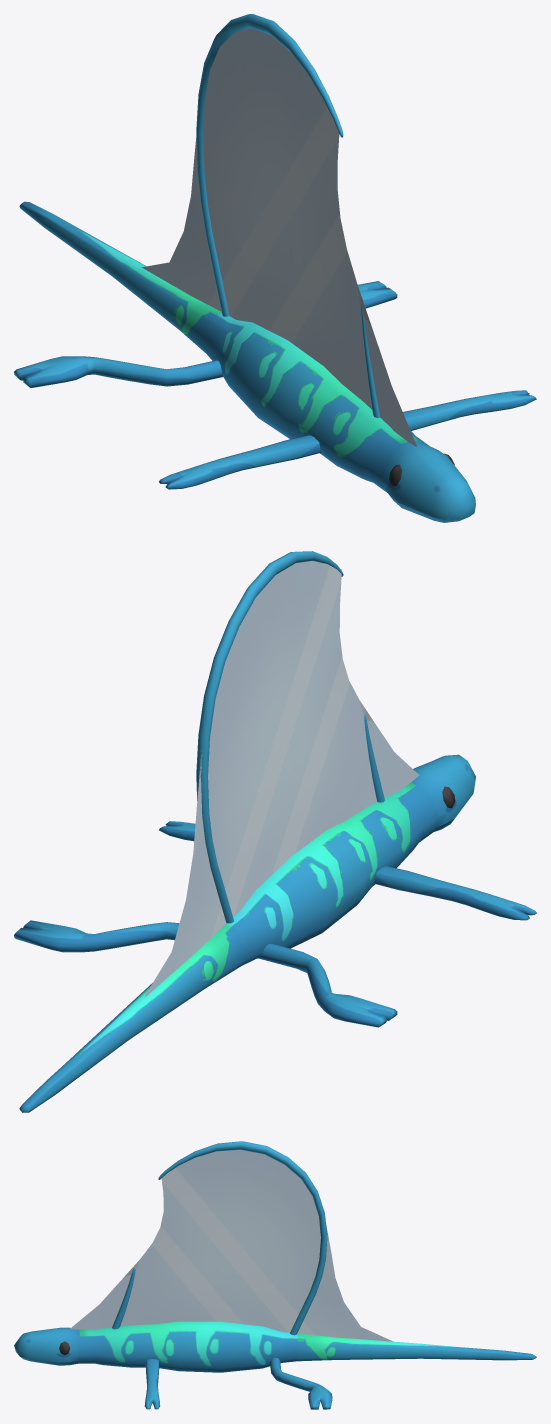
The model's file is MirrorTextured.FBX.
3 views of the same model, one above another, from view 1: azimuth 30°, elevation 25°; view 2: azimuth 150°, elevation 25°; view 3: azimuth 270°, elevation 25° (orthographic). The views are drawn at different scales.
Parts seen in each view (by area): view 1: Box003; view 2: Box003; view 3: Box003.
Boxes of the visible parts, x1,y1,x2,y2 form: Box003: (14, 14, 536, 522); Box003: (14, 551, 536, 1112); Box003: (14, 1141, 536, 1409).
Size of the model in its own units: 38.55 by 37.9 by 80.15.
